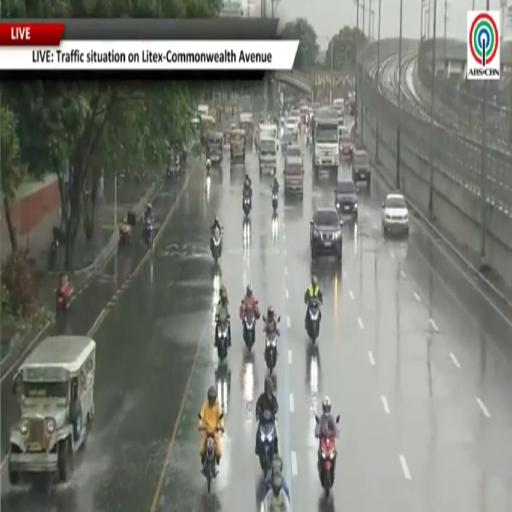car: (310, 207, 342, 260), (382, 192, 408, 236), (335, 178, 357, 219), (352, 150, 371, 185), (280, 131, 296, 155), (285, 144, 302, 159), (285, 117, 299, 134)
jeepney: (8, 335, 95, 485), (284, 156, 303, 197), (259, 137, 276, 174), (255, 123, 278, 149), (257, 124, 278, 150), (206, 132, 223, 164), (230, 128, 245, 164), (240, 112, 253, 149), (201, 116, 215, 145), (300, 105, 309, 125), (197, 105, 209, 116)
motorcycle: (258, 411, 276, 473), (318, 437, 336, 494), (203, 434, 217, 493), (306, 299, 320, 343), (56, 281, 73, 316), (265, 330, 278, 374), (216, 320, 229, 362), (243, 310, 256, 351), (210, 229, 221, 262), (143, 221, 153, 249), (243, 195, 251, 216), (272, 192, 278, 214)
truck: (313, 118, 339, 172)
